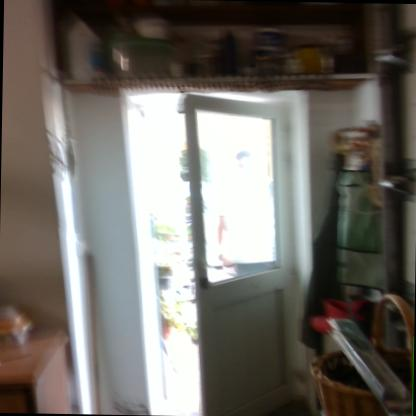semi: (107, 78, 309, 416)
